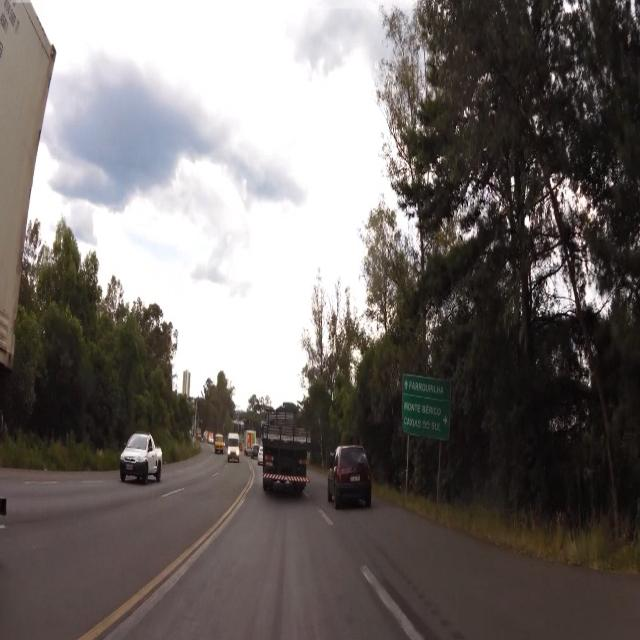I-4: (402, 375, 448, 436)
